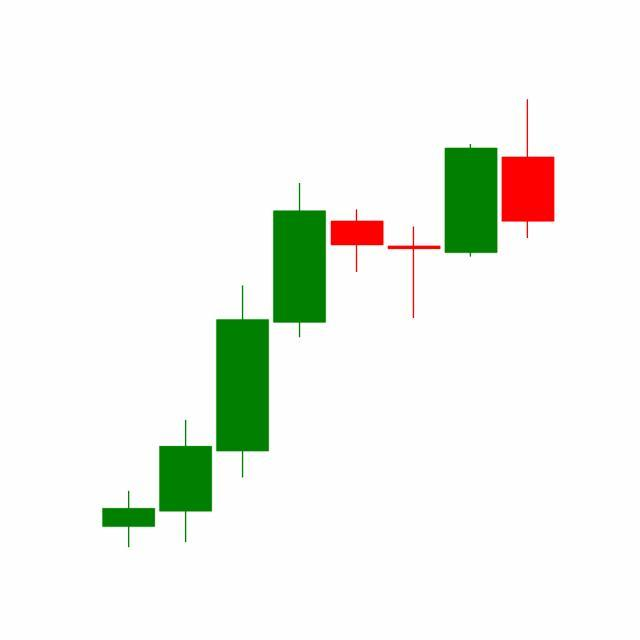Hikkake Pattern: (214, 141, 501, 482)
